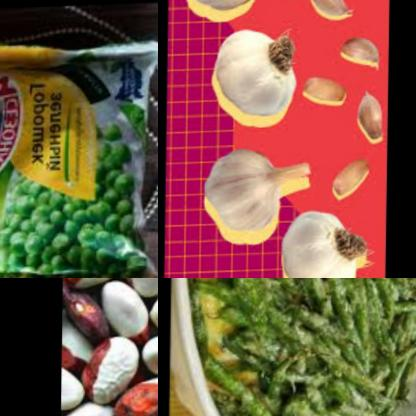fasol: (186, 278, 416, 416), (59, 278, 158, 416)
garlic: (195, 143, 319, 251), (209, 24, 305, 129), (277, 210, 371, 278), (174, 0, 302, 28), (299, 72, 352, 114), (330, 160, 376, 207), (336, 36, 384, 78), (354, 93, 388, 150), (303, 0, 353, 31)
peas: (0, 167, 133, 278)
